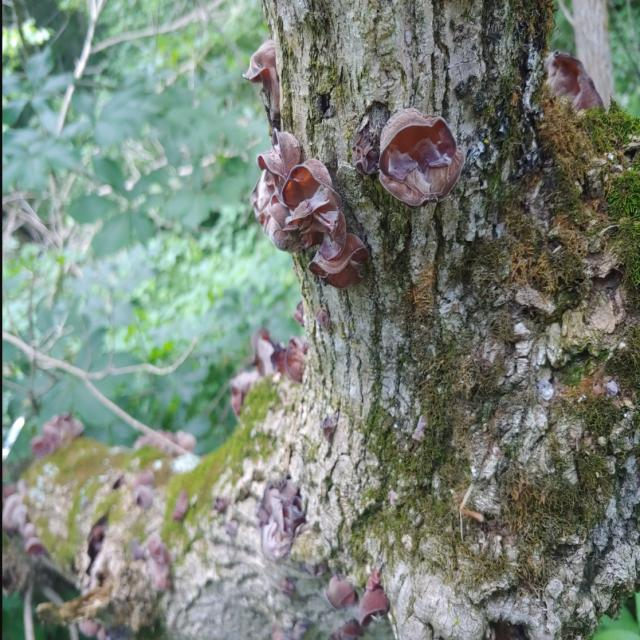Matang: (252, 148, 368, 305), (370, 98, 474, 220), (530, 36, 604, 162), (224, 328, 312, 432), (321, 566, 400, 640), (244, 35, 300, 131), (143, 532, 183, 609)
